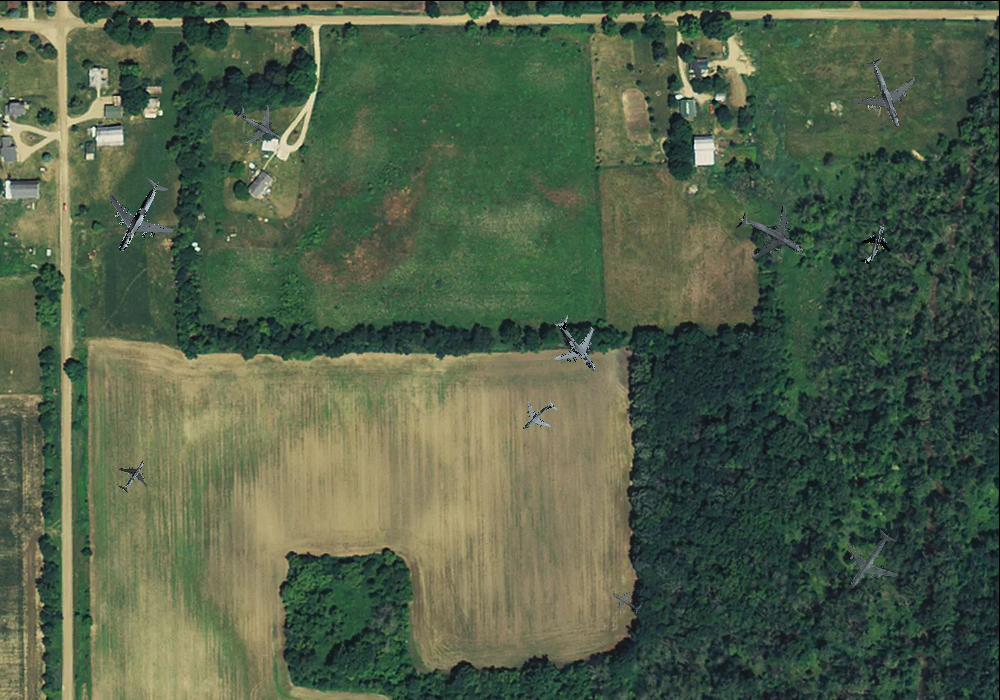plane: (87, 163, 190, 269), (723, 187, 819, 282), (825, 515, 915, 606), (841, 47, 929, 138), (535, 302, 619, 387), (225, 91, 293, 158), (511, 389, 566, 443), (850, 217, 899, 270), (108, 451, 157, 500), (604, 581, 647, 623)
